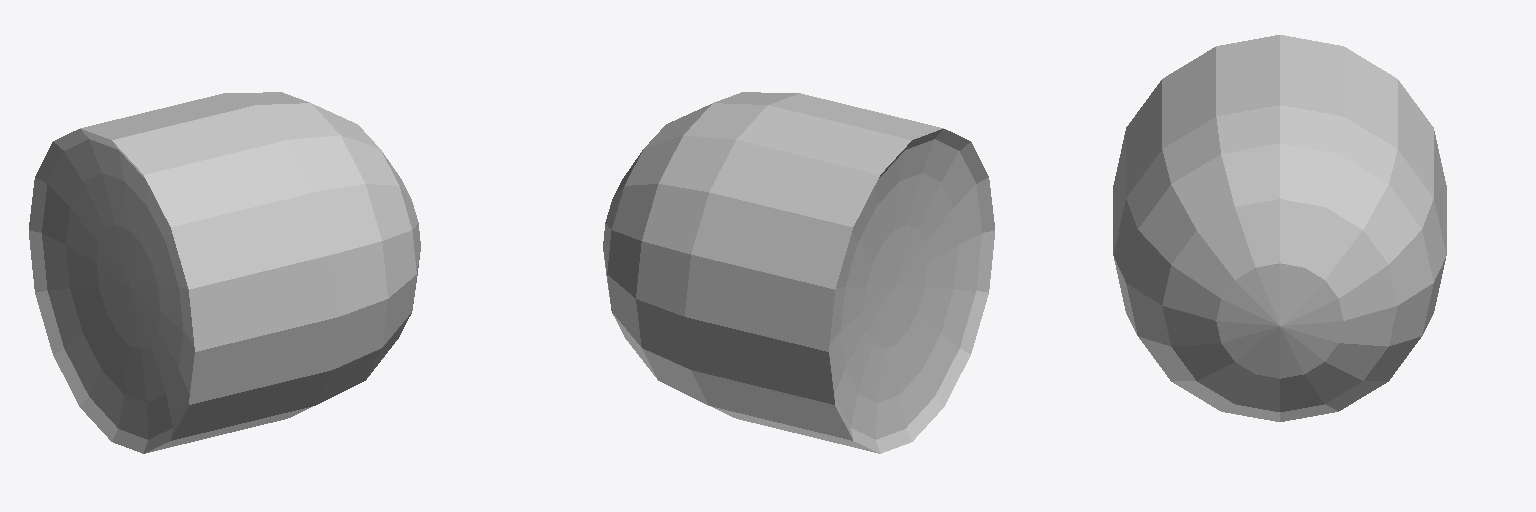
Rendered from bullet.obj.
3 renders of one model, left to right at view 1: azimuth 30°, elevation 25°; view 2: azimuth 150°, elevation 25°; view 3: azimuth 270°, elevation 25°, orthographic.
Parts seen in each view (by area): view 1: Bullet; view 2: Bullet; view 3: Bullet.
Boxes of the visible parts, <box> form: Bullet: <box>29,92,420,453</box>; Bullet: <box>603,92,994,453</box>; Bullet: <box>1113,35,1446,421</box>.
Bounding box in the file's own units: 1 × 1 × 1.